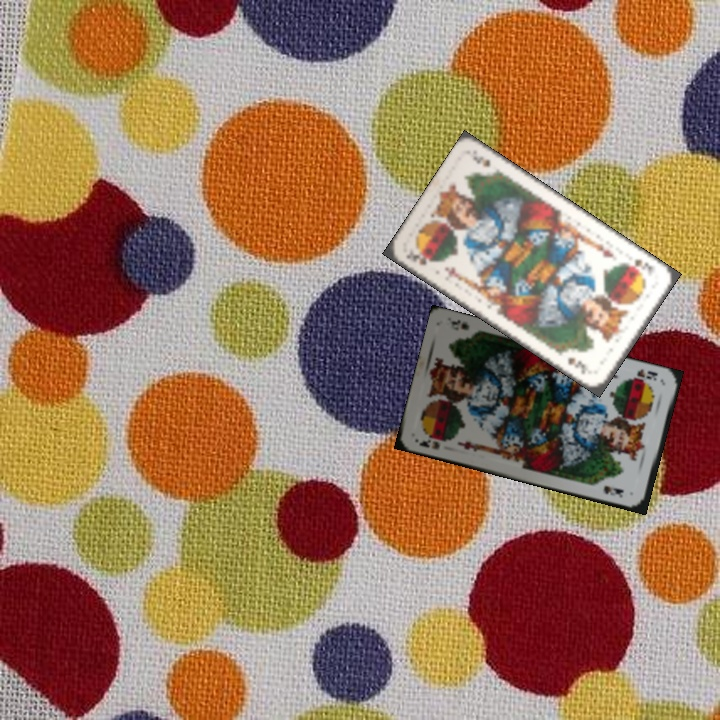SK: (623, 365, 660, 386), (401, 246, 436, 268), (622, 255, 655, 277), (415, 432, 448, 452)
